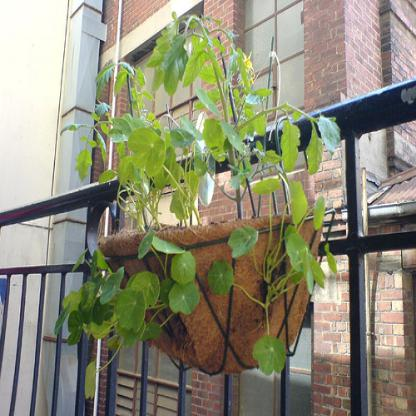pottedplant: (53, 8, 340, 398)
